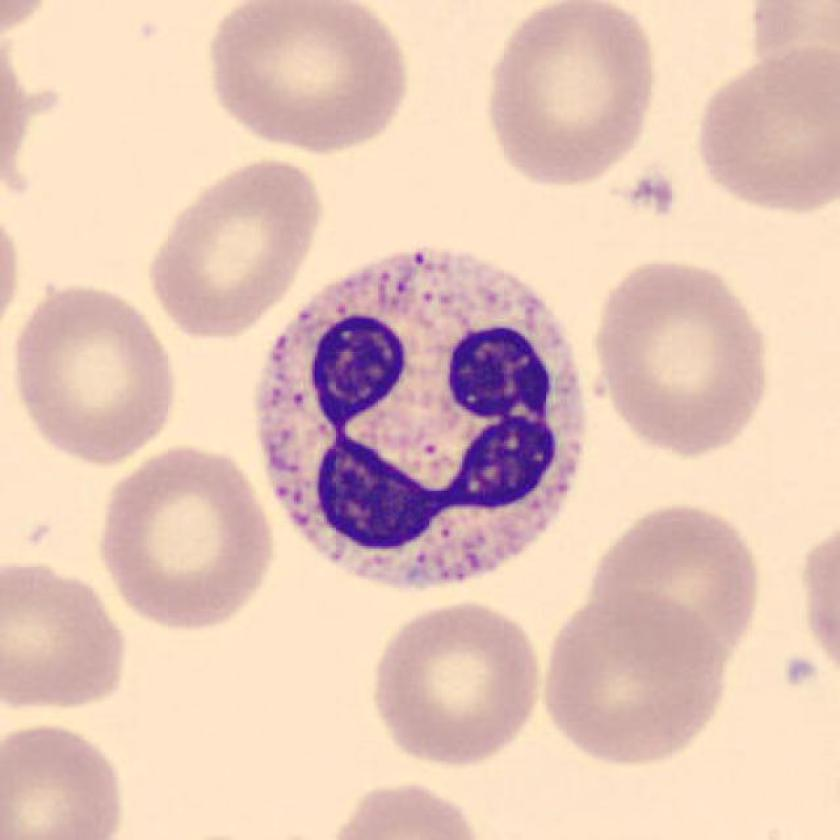neutrophil: (259, 249, 587, 588)
